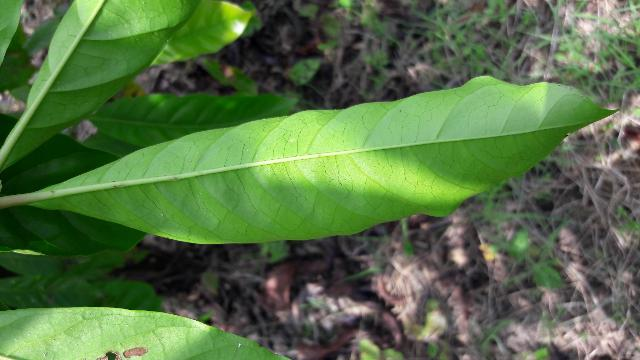healthy: (28, 73, 620, 244)
